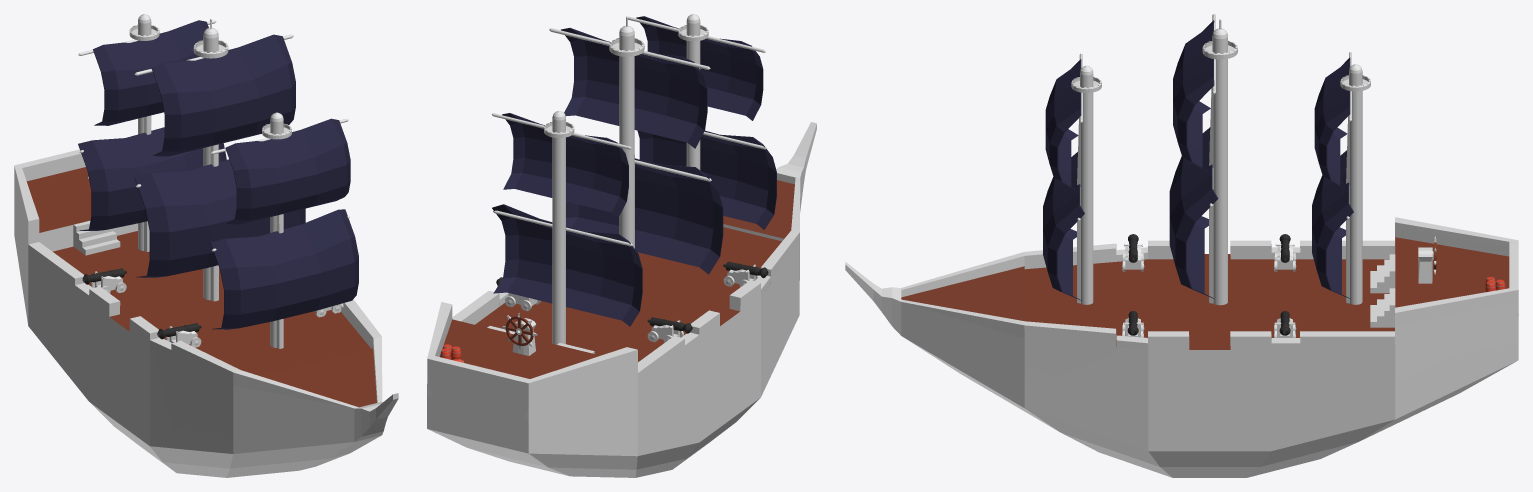
Rendered from Barco3.fbx.
The picture shows the model from 3 angles, left to right: view 1: azimuth 30°, elevation 25°; view 2: azimuth 150°, elevation 25°; view 3: azimuth 270°, elevation 25°; orthographic projection.
Parts seen in each view (by area): view 1: Velas.001; view 2: Velas.001; view 3: Velas.001.
Part boxes in pixels (<box>): Velas.001: <box>14,14,398,477</box>; Velas.001: <box>427,14,816,477</box>; Velas.001: <box>845,14,1518,477</box>.
Bounding box in the file's own units: 5.28 × 11.29 × 15.66.
